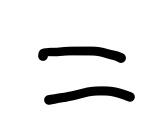eqv: (38, 48, 135, 104)
